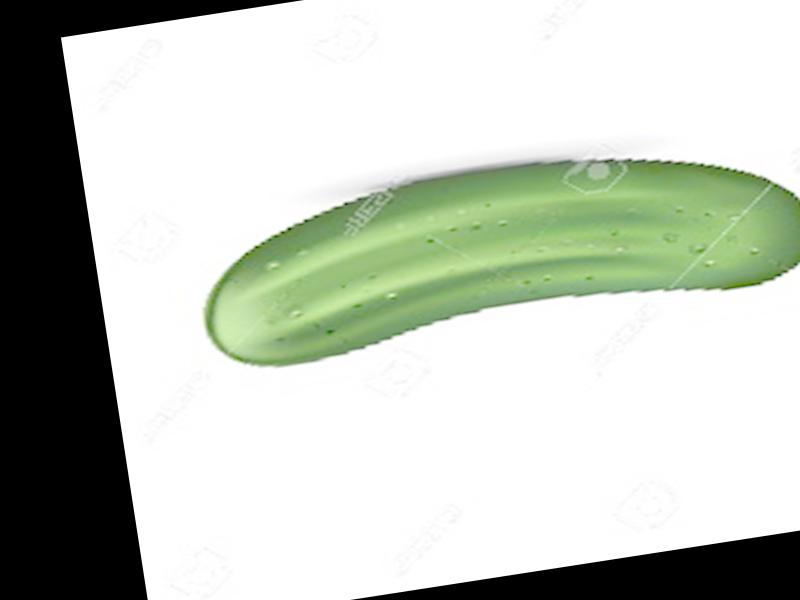Cucumber: (187, 113, 800, 377)
